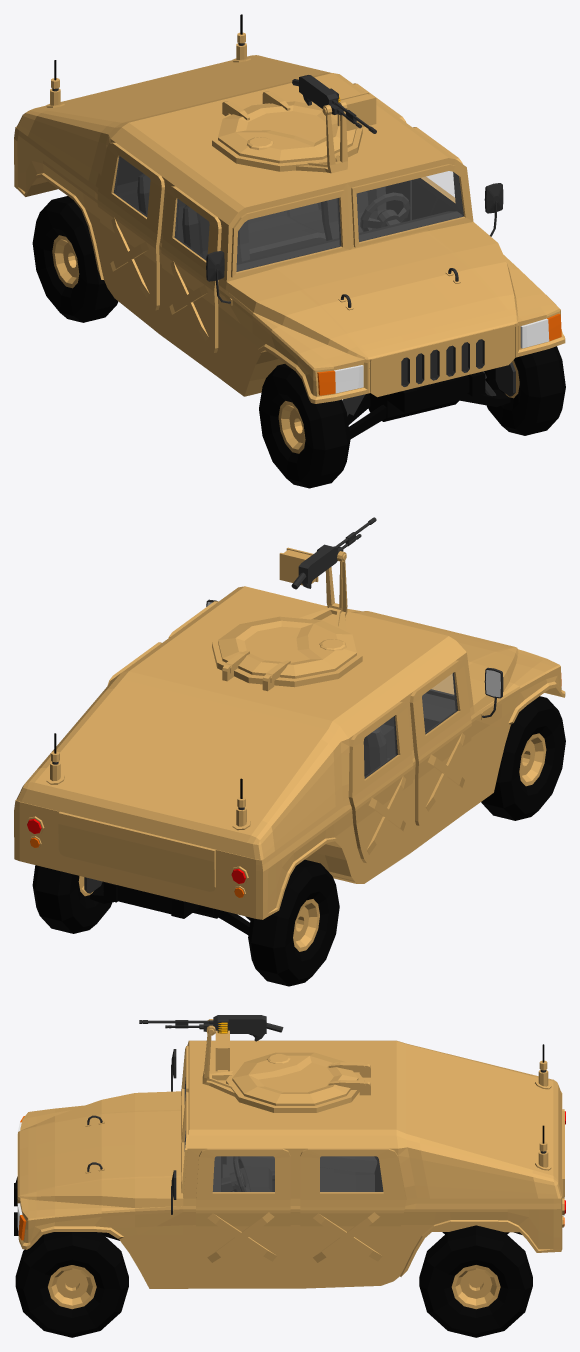
3 renders of one model, top to bottom at view 1: azimuth 30°, elevation 25°; view 2: azimuth 150°, elevation 25°; view 3: azimuth 270°, elevation 25°, orthographic. The views are drawn at different scales.
Visible parts, largest first — view 1: Plane, Plane.007, Plane.002, Plane.001, Cylinder.002, Plane.009, Cylinder.001, Plane.005, Plane.010, Cylinder, Cube.002, Plane.004 (+1 smaller); view 2: Plane, Plane.010, Plane.001, Plane.009, Cylinder.001, Plane.003, Plane.005, Cylinder.002, Cylinder.003, Plane.007, Cube.002, Cube.001; view 3: Plane, Plane.008, Plane.004, Cylinder.003, Cylinder, Plane.010, Plane.005, Plane.007, Cube.002, Cube.001.
Boxes of the visible parts, x1,y1,x2,y2 form: Plane: (14,14,565,439); Plane.007: (116,157,463,271); Plane.002: (237,171,463,270); Plane.001: (97,142,164,310); Cylinder.002: (259,364,350,488); Plane.009: (161,186,221,353); Cylinder.001: (32,196,118,322); Plane.005: (218,92,356,163); Plane.010: (65,63,295,115); Cylinder: (484,346,565,435); Cube.002: (292,75,376,133); Plane.004: (412,127,462,219); Plane: (14,586,565,934); Plane.010: (60,694,295,849); Plane.001: (348,701,413,863); Plane.009: (410,660,471,825); Cylinder.001: (248,859,339,986); Plane.003: (58,811,215,891); Plane.005: (218,616,356,682); Cylinder.002: (481,696,565,820); Cylinder.003: (32,865,112,933); Plane.007: (363,689,455,776); Cube.002: (279,517,376,589); Cube.001: (299,551,347,629); Plane: (14,1040,565,1288); Plane.008: (300,1148,406,1270); Plane.004: (196,1148,290,1270); Cylinder.003: (419,1225,532,1337); Cylinder: (15,1232,128,1337); Plane.010: (419,1058,561,1178); Plane.005: (232,1052,365,1105); Plane.007: (184,1077,383,1191); Cube.002: (139,1015,283,1071); Cube.001: (202,1019,234,1096).
Size of the model in its own units: 242 by 236 by 438.
